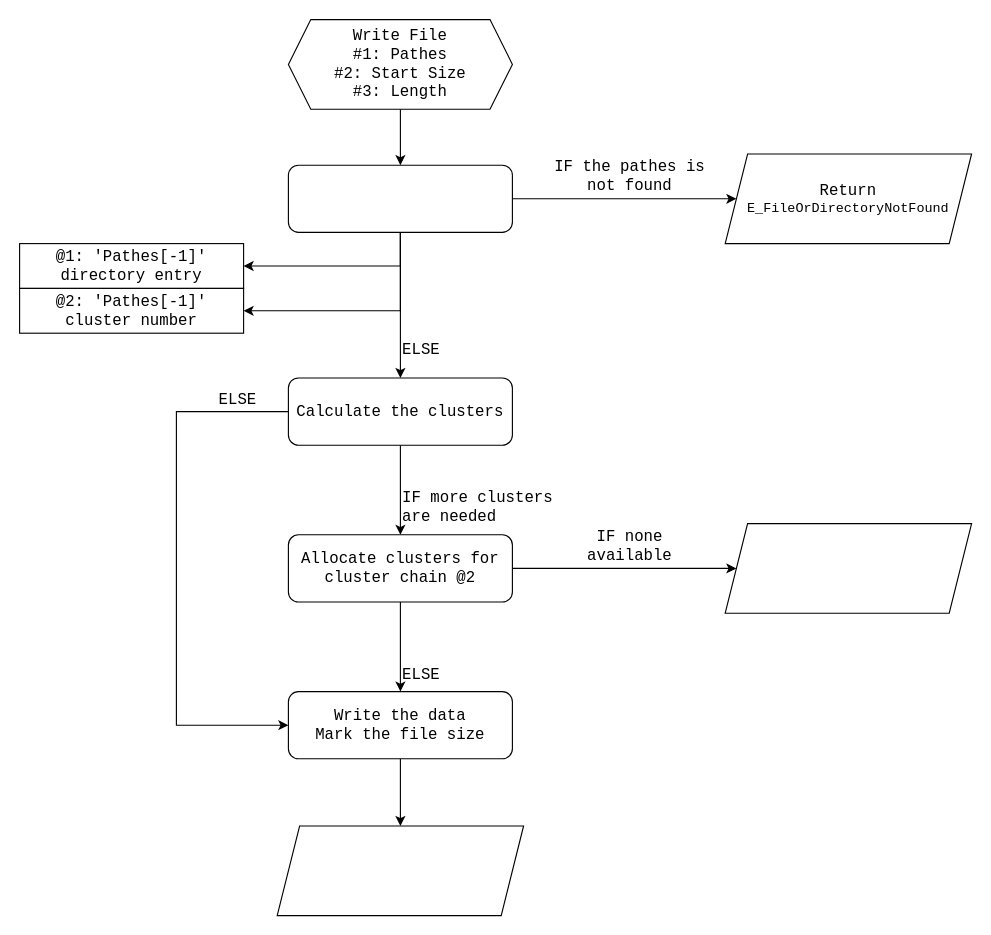
This 991x935 diagram has some shape labels left out. The shapes that lost their labels are listed below. From the top down, each one's box as (x1, y1, x2, y2) in pixels, then its label:
(287, 164, 512, 232): Search the 'pathes'
(724, 522, 972, 613): Return E_NoSpace
(276, 825, 524, 916): Return as success
